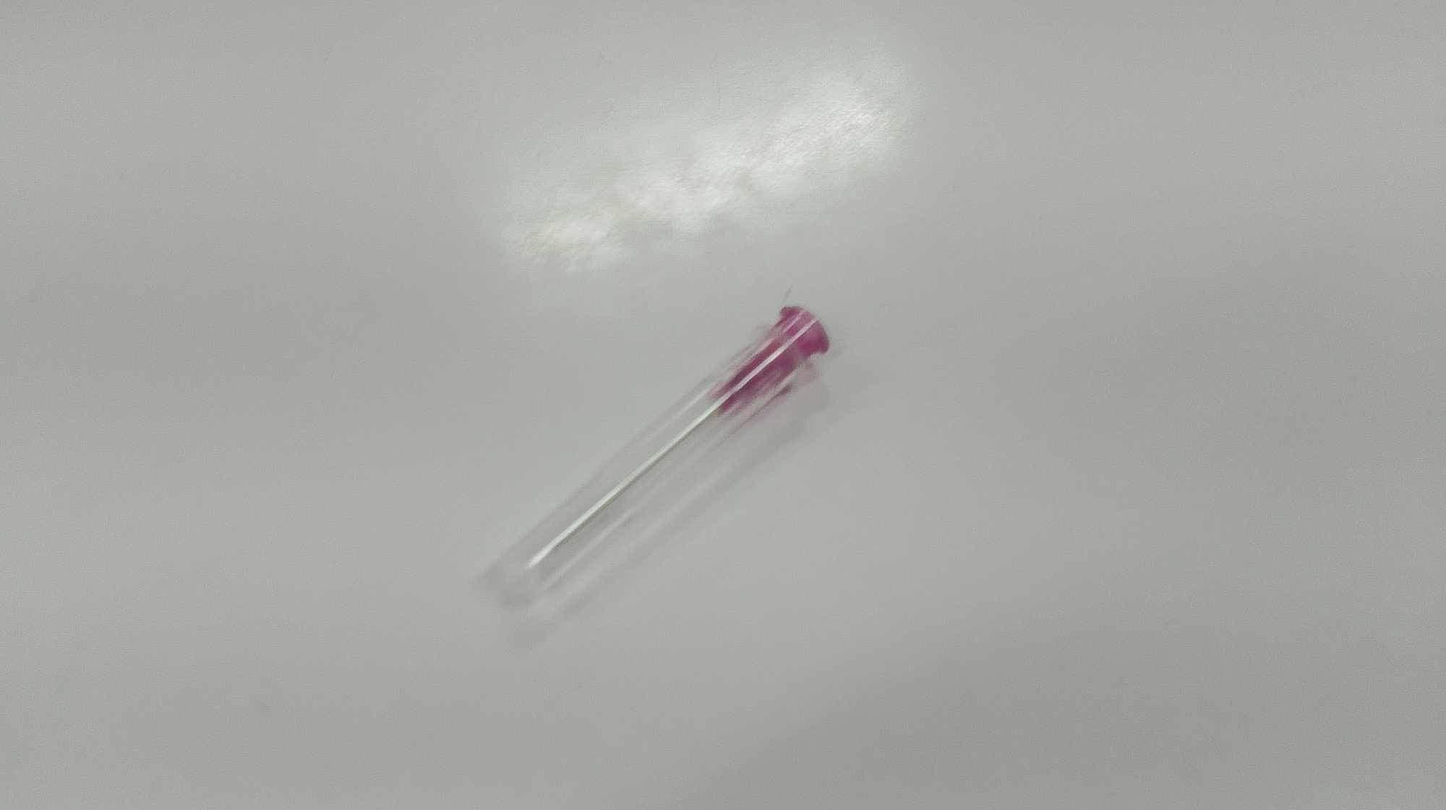General: (703, 302, 832, 423)
Pathological: (5, 4, 1438, 804)
Sharps: (481, 301, 831, 604)
